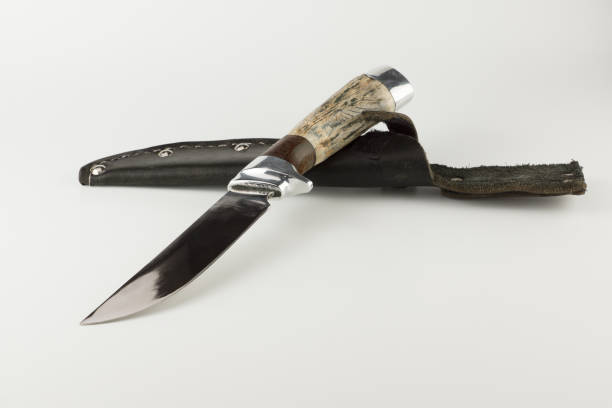knife: (75, 61, 417, 329)
